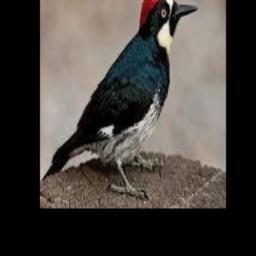Woodpecker: (42, 0, 199, 196)
